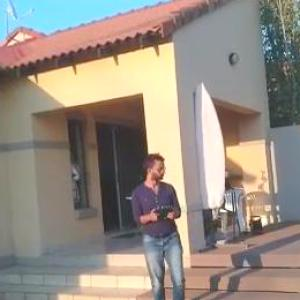follow: (130, 151, 193, 299)
